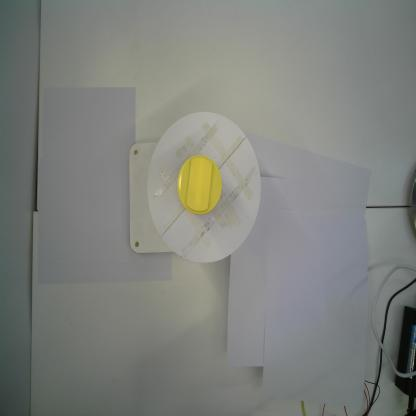Canned Food: (176, 152, 224, 216)
